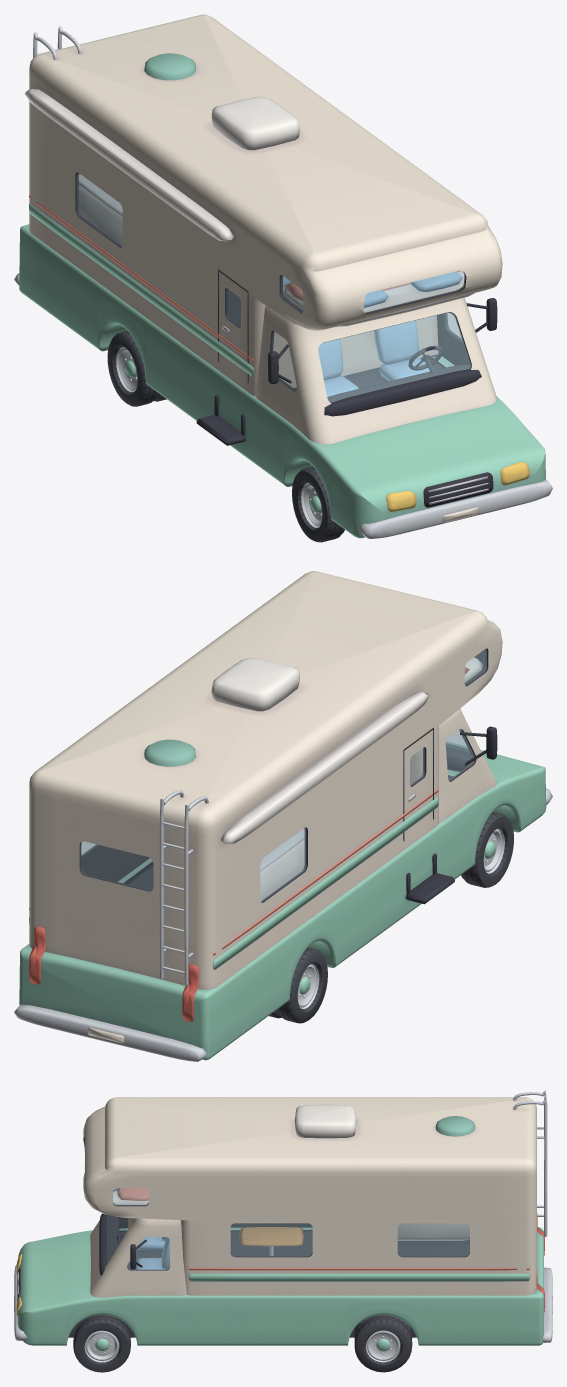
File: motorhome.glb
3 renders of one model, top to bottom at view 1: azimuth 30°, elevation 25°; view 2: azimuth 150°, elevation 25°; view 3: azimuth 270°, elevation 25°, orthographic. The views are drawn at different scales.
Visible parts, largest first — view 1: motorhome_body, motorhome_windows, motorhome_wheel_fr, motorhome_wheel_rr; view 2: motorhome_body, motorhome_windows, motorhome_wheel_fr, motorhome_wheel_rr; view 3: motorhome_body, motorhome_windows, motorhome_wheel_rl, motorhome_wheel_fl.
Boxes of the visible parts, x1,y1,x2,y2 form: motorhome_body: [14, 14, 552, 538]; motorhome_windows: [77, 173, 470, 402]; motorhome_wheel_fr: [292, 466, 344, 542]; motorhome_wheel_rr: [107, 331, 166, 406]; motorhome_body: [14, 571, 552, 1061]; motorhome_windows: [80, 649, 486, 901]; motorhome_wheel_fr: [461, 812, 513, 887]; motorhome_wheel_rr: [269, 947, 327, 1023]; motorhome_body: [14, 1090, 552, 1345]; motorhome_windows: [84, 1140, 469, 1269]; motorhome_wheel_rl: [354, 1315, 412, 1372]; motorhome_wheel_fl: [73, 1315, 130, 1372].
Size of the model in its own units: 2.78 by 3.46 by 7.48.
14 materials, 5 textured.
